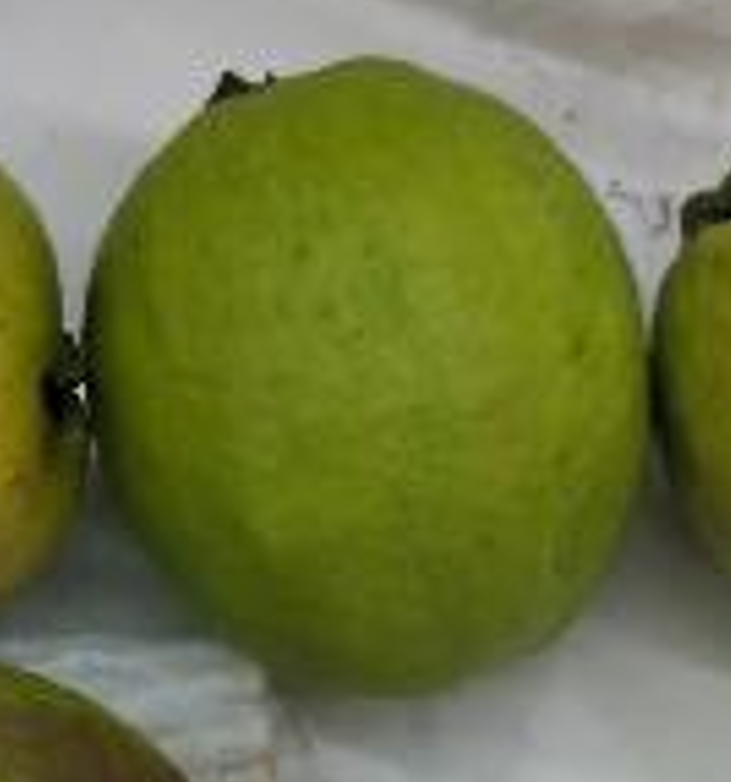guava_A: (81, 53, 650, 685)
